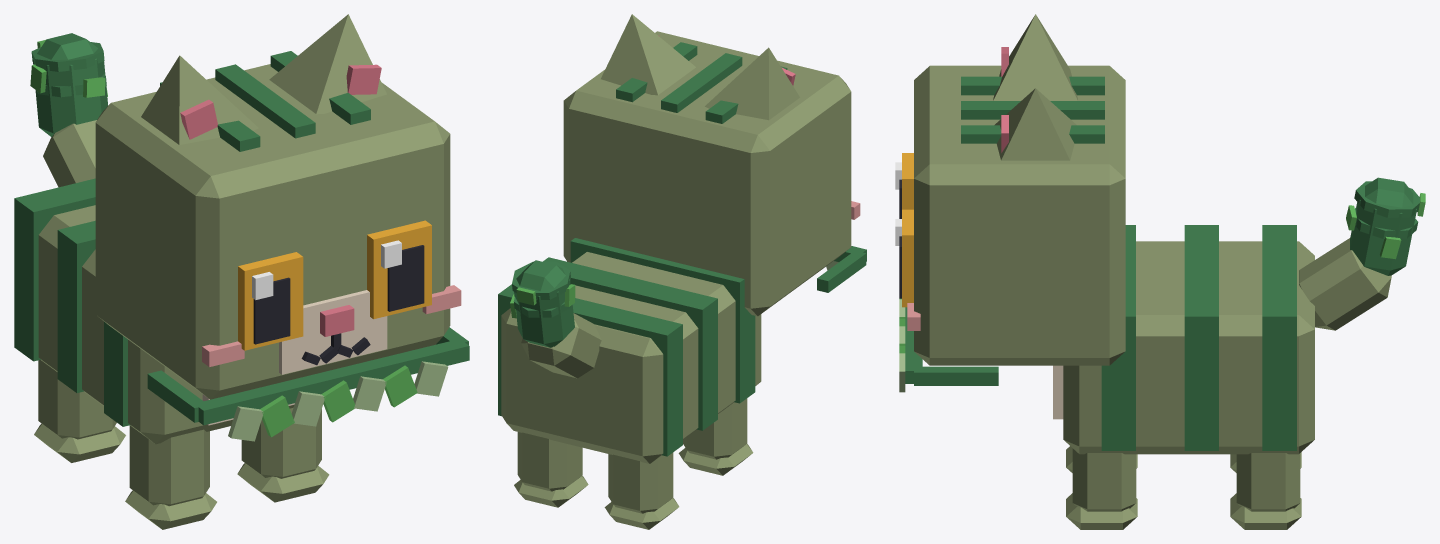
Rendered from CatCafe_Cat_Ivy.glb.
3 views of the same model, side by side, from view 1: azimuth 30°, elevation 25°; view 2: azimuth 150°, elevation 25°; view 3: azimuth 270°, elevation 25° (orthographic). The views are drawn at different scales.
Visible parts, largest first — view 1: CatCafe_Cat_Ivy_Head, CatCafe_Cat_Ivy_Body, CatCafe_Cat_Ivy_Prop, CatCafe_Cat_Ivy_LegF2, CatCafe_Cat_Ivy_Tail, CatCafe_Cat_Ivy_EarL, CatCafe_Cat_Ivy_Eye2, CatCafe_Cat_Ivy_Eye1, CatCafe_Cat_Ivy_LegF1, CatCafe_Cat_Ivy_LegB2, CatCafe_Cat_Ivy_EarR, CatCafe_Cat_Ivy_Tail_Vine; view 2: CatCafe_Cat_Ivy_Head, CatCafe_Cat_Ivy_Body, CatCafe_Cat_Ivy_Tail, CatCafe_Cat_Ivy_LegB2, CatCafe_Cat_Ivy_LegB1, CatCafe_Cat_Ivy_EarL, CatCafe_Cat_Ivy_EarR, CatCafe_Cat_Ivy_LegF2, CatCafe_Cat_Ivy_Tail_Vine, CatCafe_Cat_Ivy_Prop; view 3: CatCafe_Cat_Ivy_Head, CatCafe_Cat_Ivy_Body, CatCafe_Cat_Ivy_Tail, CatCafe_Cat_Ivy_LegF1, CatCafe_Cat_Ivy_LegB1, CatCafe_Cat_Ivy_EarR, CatCafe_Cat_Ivy_EarL, CatCafe_Cat_Ivy_Prop, CatCafe_Cat_Ivy_Tail_Vine, CatCafe_Cat_Ivy_Eye1, CatCafe_Cat_Ivy_Eye2.
Boxes of the visible parts, x1,y1,x2,y2 form: CatCafe_Cat_Ivy_Head: (95, 51, 461, 399); CatCafe_Cat_Ivy_Body: (14, 178, 294, 444); CatCafe_Cat_Ivy_Prop: (147, 327, 469, 441); CatCafe_Cat_Ivy_LegF2: (125, 425, 216, 529); CatCafe_Cat_Ivy_Tail: (33, 33, 107, 187); CatCafe_Cat_Ivy_EarL: (269, 14, 386, 114); CatCafe_Cat_Ivy_Eye2: (238, 252, 303, 350); CatCafe_Cat_Ivy_Eye1: (367, 220, 431, 319); CatCafe_Cat_Ivy_LegF1: (237, 407, 329, 502); CatCafe_Cat_Ivy_LegB2: (34, 360, 125, 462); CatCafe_Cat_Ivy_EarR: (141, 55, 258, 144); CatCafe_Cat_Ivy_Tail_Vine: (30, 40, 107, 97); CatCafe_Cat_Ivy_Head: (563, 31, 860, 316); CatCafe_Cat_Ivy_Body: (498, 238, 761, 463); CatCafe_Cat_Ivy_Tail: (514, 260, 601, 378); CatCafe_Cat_Ivy_LegB2: (604, 452, 679, 529); CatCafe_Cat_Ivy_LegB1: (514, 432, 588, 507); CatCafe_Cat_Ivy_EarL: (601, 14, 695, 95); CatCafe_Cat_Ivy_EarR: (705, 47, 799, 120); CatCafe_Cat_Ivy_LegF2: (678, 398, 753, 475); CatCafe_Cat_Ivy_Tail_Vine: (510, 261, 575, 318); CatCafe_Cat_Ivy_Prop: (817, 246, 866, 292); CatCafe_Cat_Ivy_Head: (907, 65, 1125, 365); CatCafe_Cat_Ivy_Body: (1053, 225, 1314, 454); CatCafe_Cat_Ivy_Tail: (1299, 177, 1416, 330); CatCafe_Cat_Ivy_LegF1: (1066, 448, 1137, 529); CatCafe_Cat_Ivy_LegB1: (1230, 453, 1301, 529); CatCafe_Cat_Ivy_EarR: (993, 14, 1077, 100); CatCafe_Cat_Ivy_EarL: (994, 88, 1076, 160); CatCafe_Cat_Ivy_Prop: (899, 298, 998, 392); CatCafe_Cat_Ivy_Tail_Vine: (1346, 181, 1425, 259); CatCafe_Cat_Ivy_Eye1: (895, 209, 913, 307); CatCafe_Cat_Ivy_Eye2: (895, 153, 913, 218).
Size of the model in its own units: 1.08 by 1.86 by 2.
Materials: 1 (1 with a texture image).
